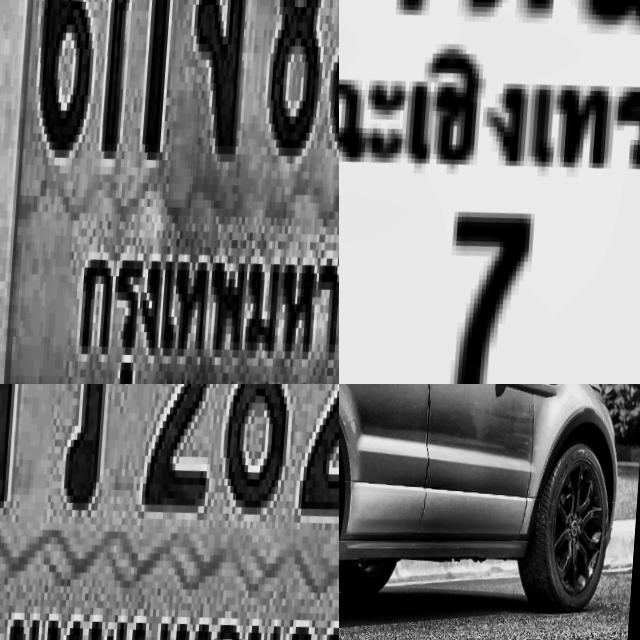license-plate: (0, 0, 339, 384), (339, 0, 640, 384), (0, 384, 339, 640)
